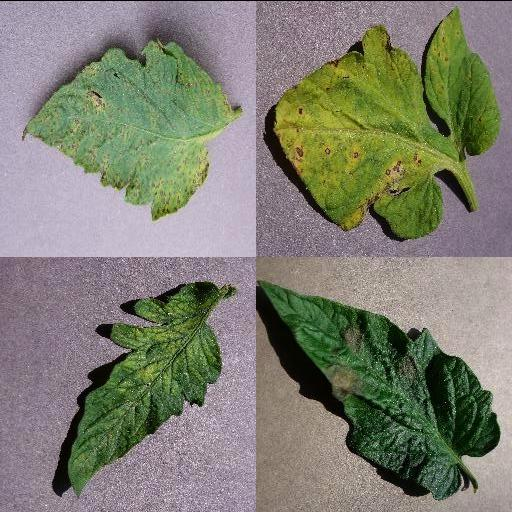Late Blight: (258, 279, 500, 503)
Mosaic Virus: (66, 278, 226, 498)
Septoria: (23, 34, 233, 218), (273, 24, 445, 239), (423, 5, 503, 155)
